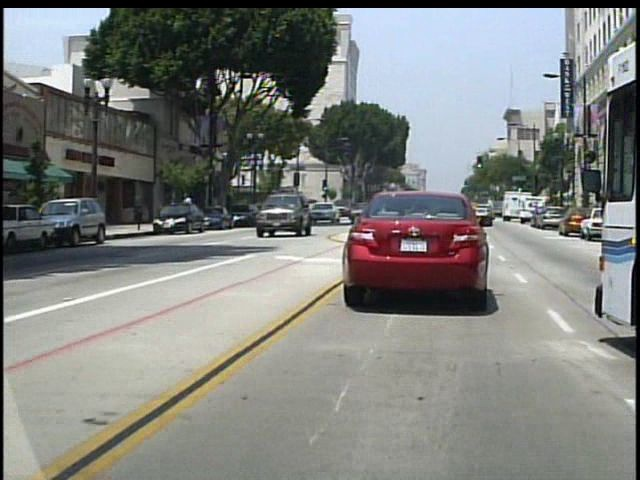person: (186, 191, 199, 224)
